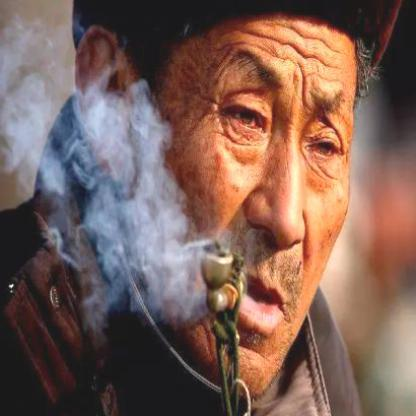person: (0, 1, 398, 415)
smoke: (74, 92, 202, 319), (0, 8, 68, 189)
